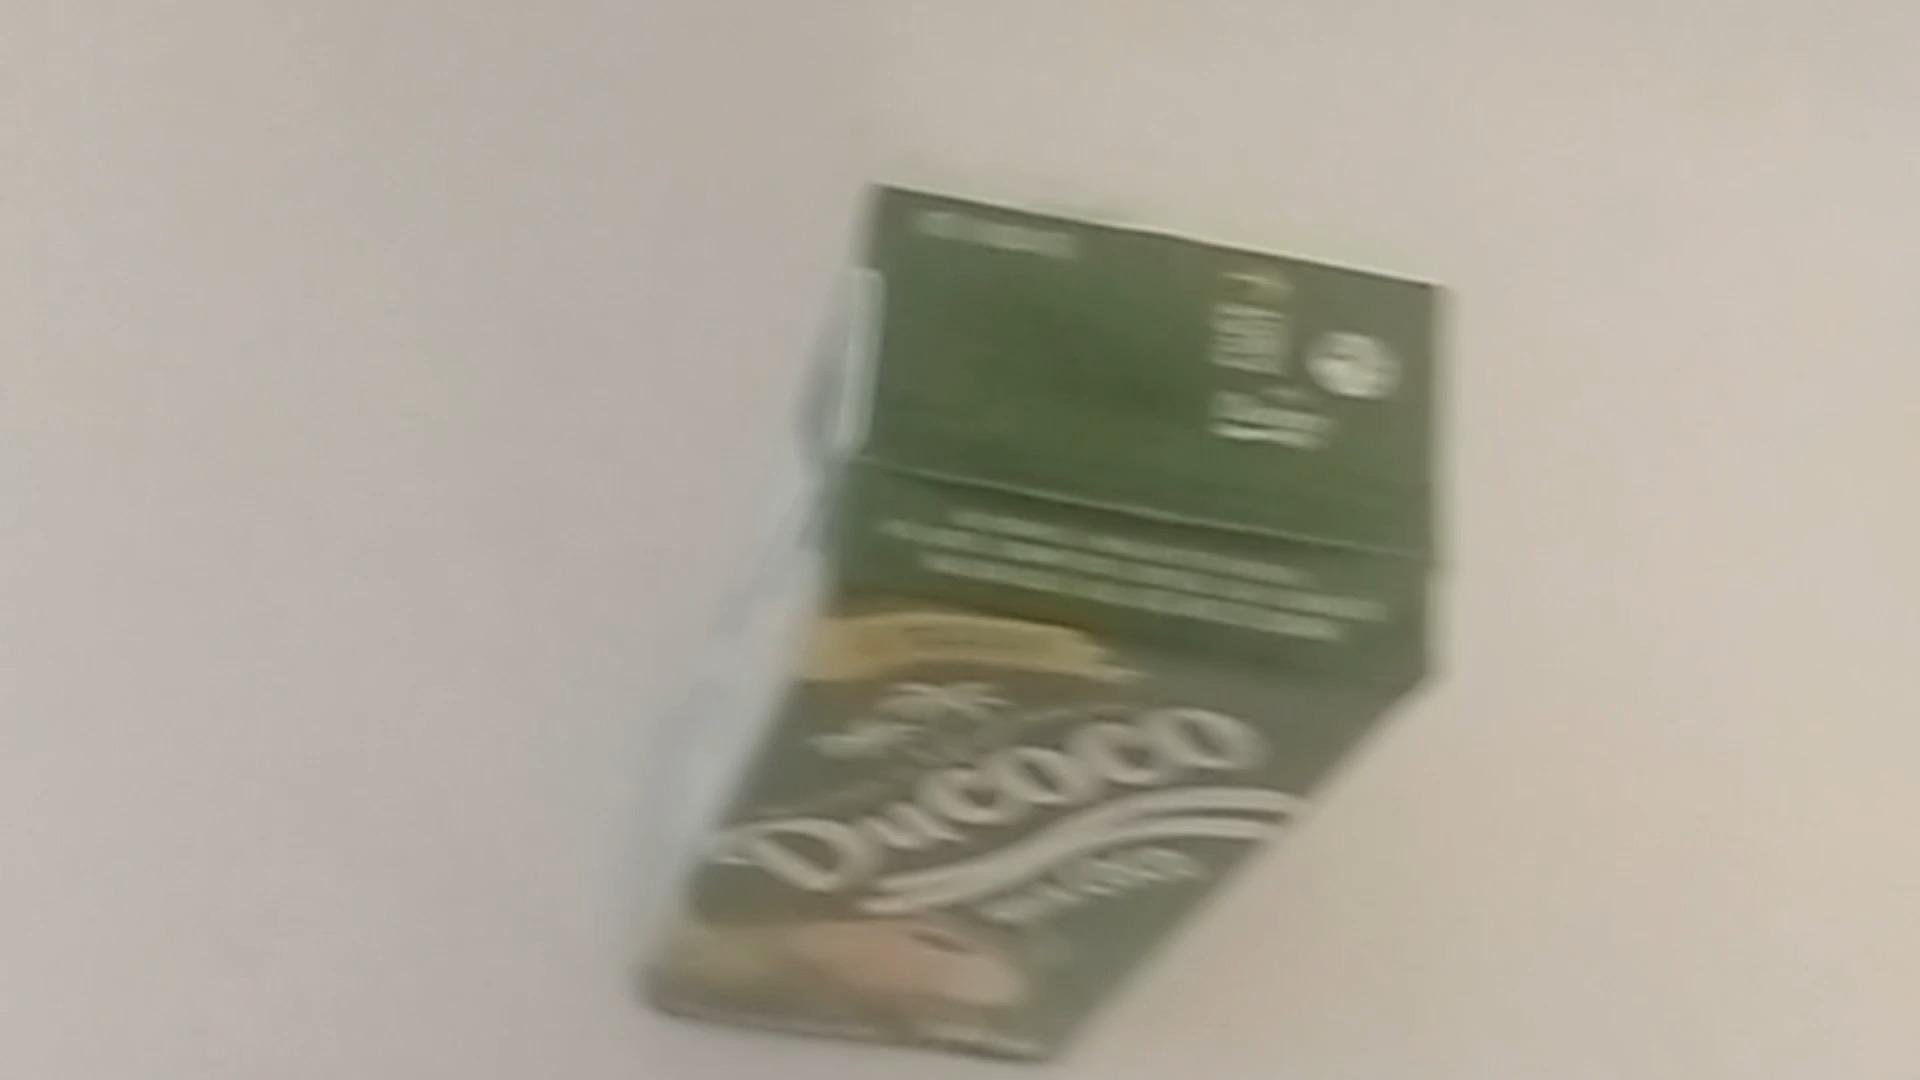coco: (626, 183, 1445, 1075)
